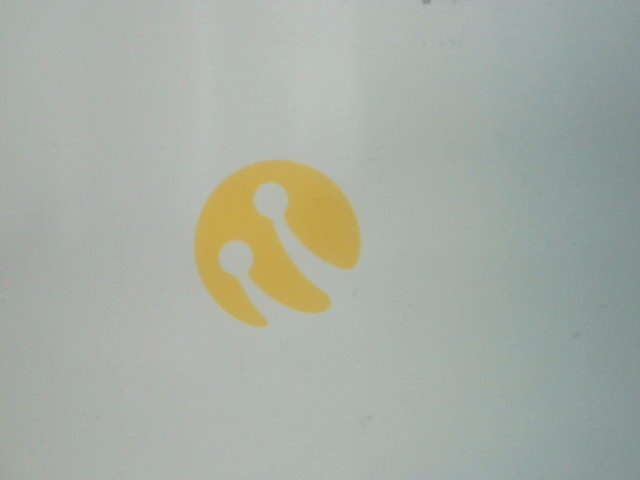AV_H3600Yellow: (173, 151, 381, 343)
